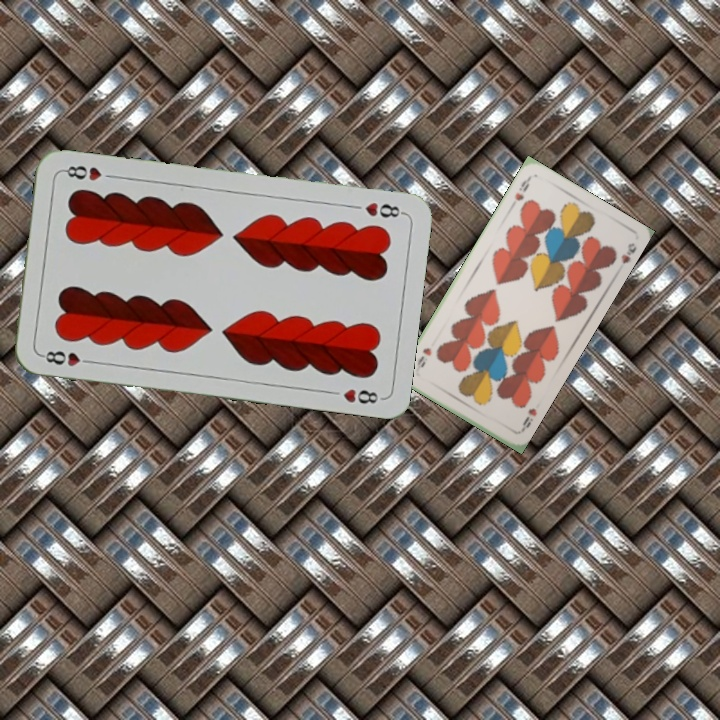H8: (37, 347, 96, 369), (361, 198, 407, 221)
H9: (514, 404, 539, 435), (511, 173, 533, 204)
